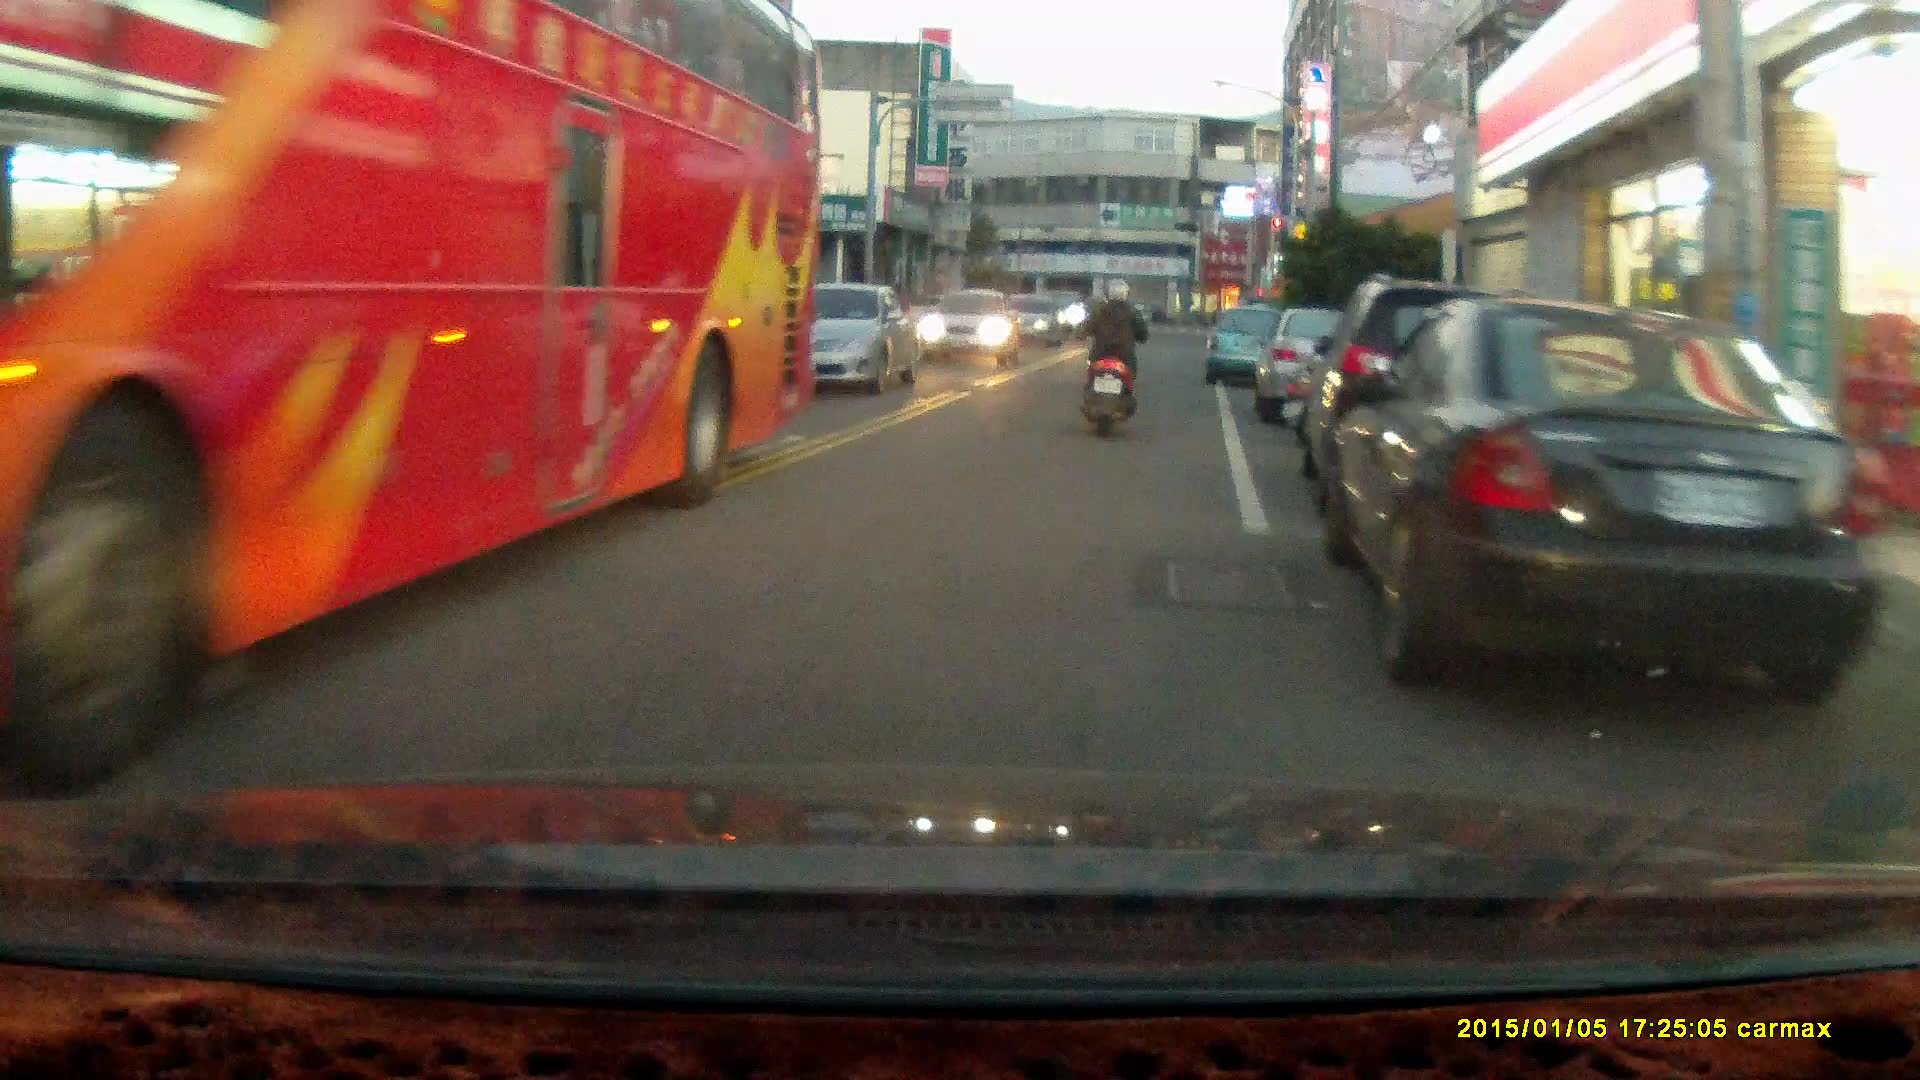rider: (1077, 277, 1149, 437)
vehicle: (1, 9, 827, 732), (1326, 301, 1896, 732), (1298, 270, 1559, 517), (1264, 304, 1450, 434), (754, 283, 917, 395), (920, 285, 1026, 366), (1206, 302, 1300, 389)
